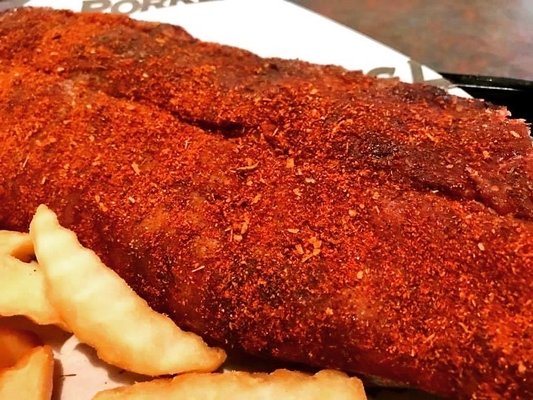salad: (86, 369, 368, 400)
